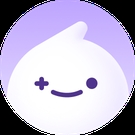avatar: (1, 1, 135, 135)
